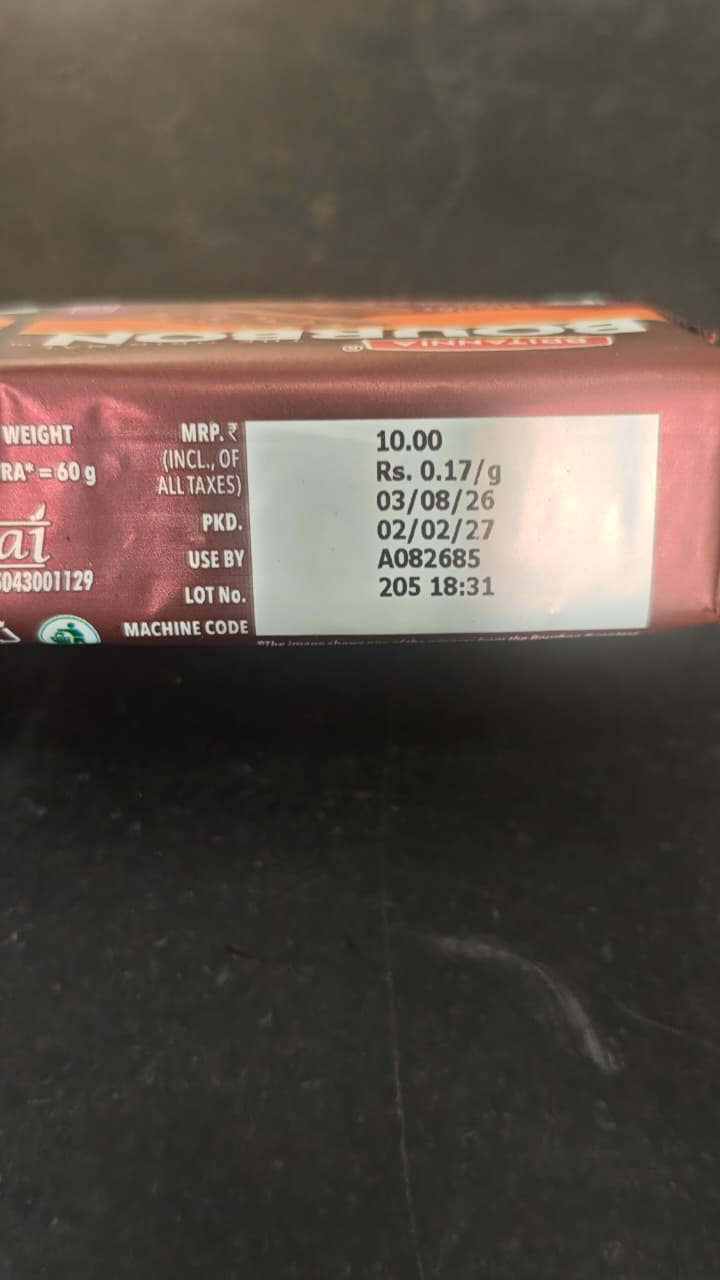EXP_Date: (172, 522, 507, 557)
MFG_Date: (170, 484, 510, 522)
MRP: (164, 410, 493, 457)
